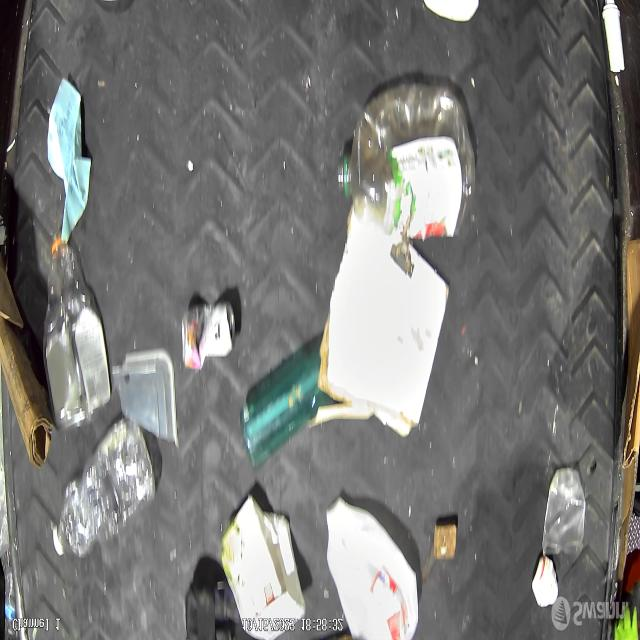can: (180, 302, 236, 370)
milk_jug: (326, 499, 420, 640)
plastic_bottle: (336, 80, 476, 239), (53, 418, 158, 560), (44, 236, 111, 430), (542, 468, 586, 558)
